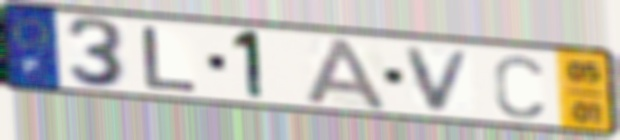1: (225, 28, 267, 104)
3: (65, 15, 131, 91)
A: (302, 36, 391, 113)
C: (490, 52, 547, 121)
L: (140, 24, 201, 94)
V: (402, 45, 477, 114)
